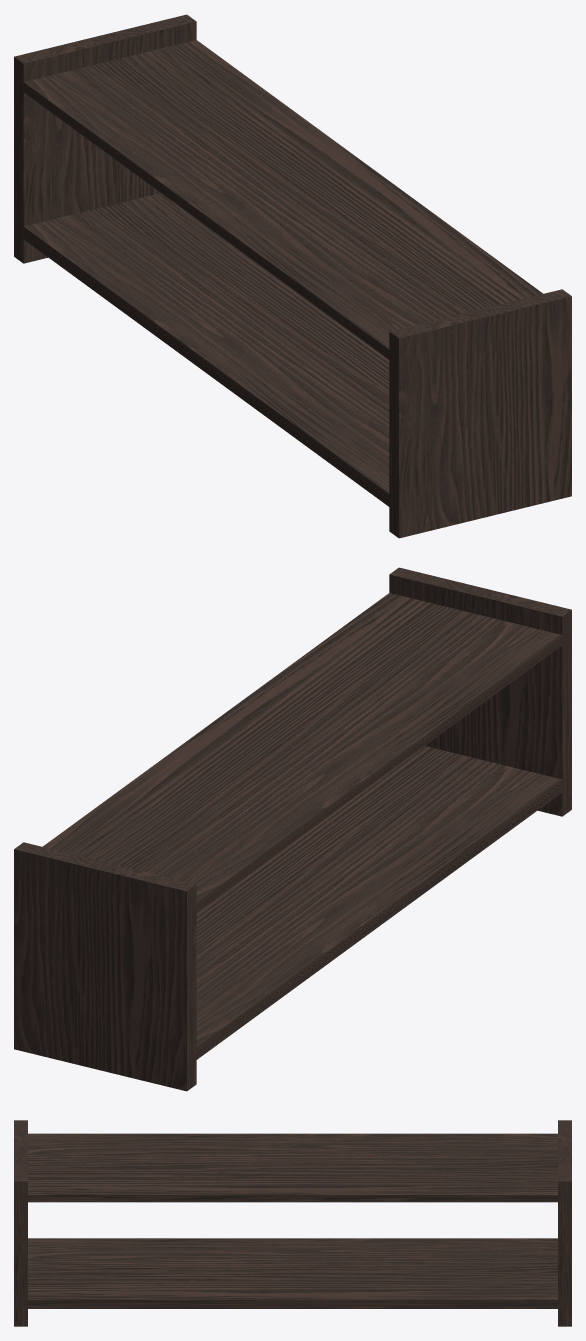
File: wood_stand_large.glb
3 views of the same model, one above another, from view 1: azimuth 30°, elevation 25°; view 2: azimuth 150°, elevation 25°; view 3: azimuth 270°, elevation 25° (orthographic). The views are drawn at different scales.
Parts seen in each view (by area): view 1: Cube.080; view 2: Cube.080; view 3: Cube.080.
Boxes of the visible parts, x1,y1,x2,y2 form: Cube.080: (14,14,571,538); Cube.080: (14,567,571,1091); Cube.080: (14,1120,571,1326).
Bounding box in the file's own units: 0.5903 × 0.6522 × 2.28.
Materials: 1 (1 with a texture image).
